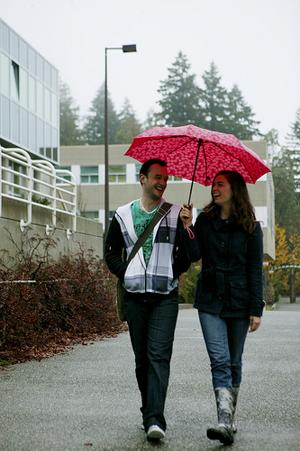person: (180, 169, 263, 446)
